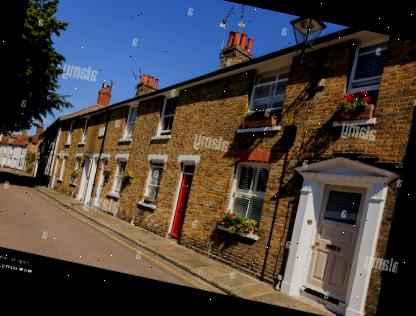door: (291, 170, 380, 312), (164, 155, 199, 246)
